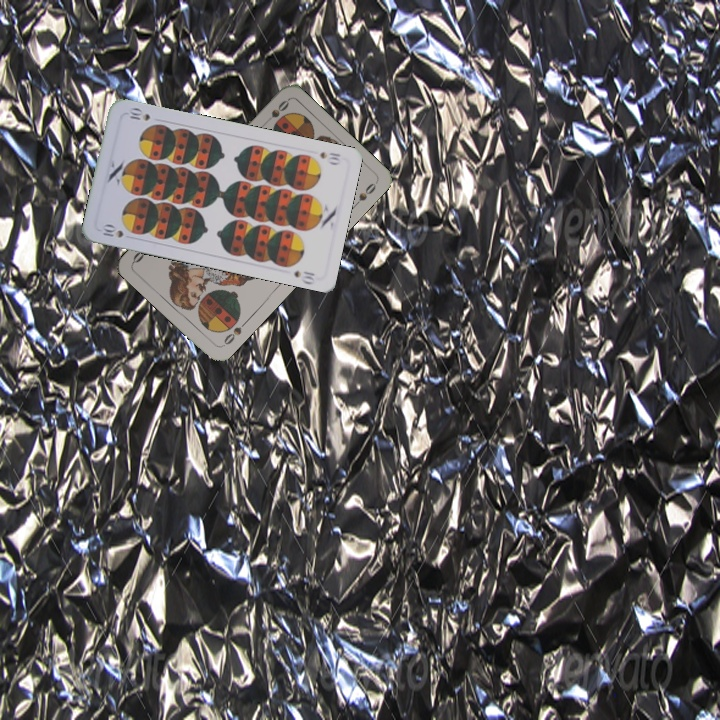S10: (99, 221, 126, 241), (315, 148, 343, 167)
SO: (259, 96, 292, 129), (218, 316, 250, 349)
